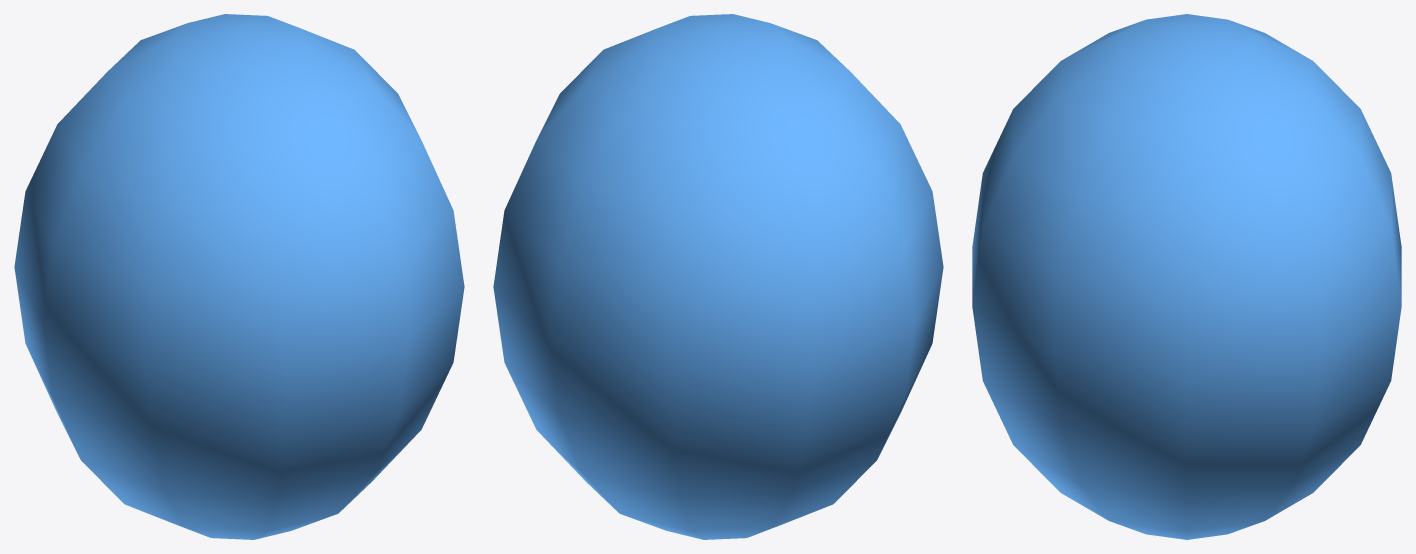
The model's file is Tempestália_stage1.obj.
3 renders of one model, left to right at view 1: azimuth 30°, elevation 25°; view 2: azimuth 150°, elevation 25°; view 3: azimuth 270°, elevation 25°, orthographic.
Bounding box in the file's own units: 1.6 × 1.92 × 1.52.
